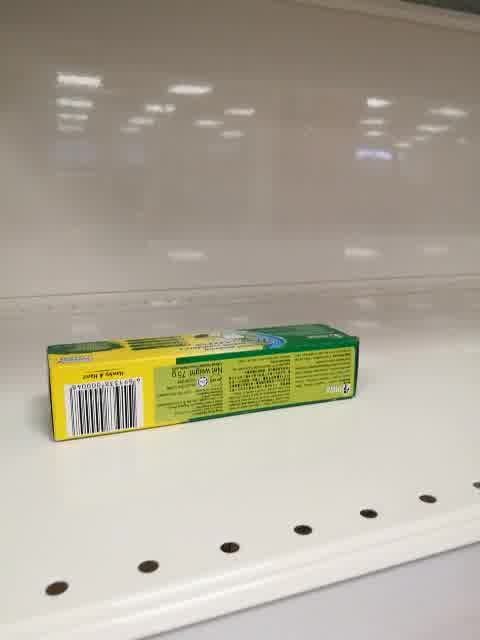toothpaste: (45, 323, 362, 442)
